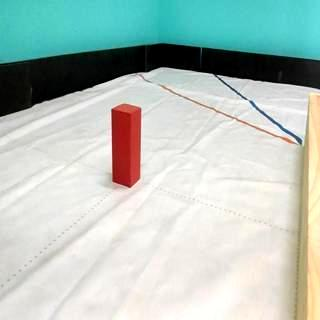redbox: (110, 103, 141, 188)
